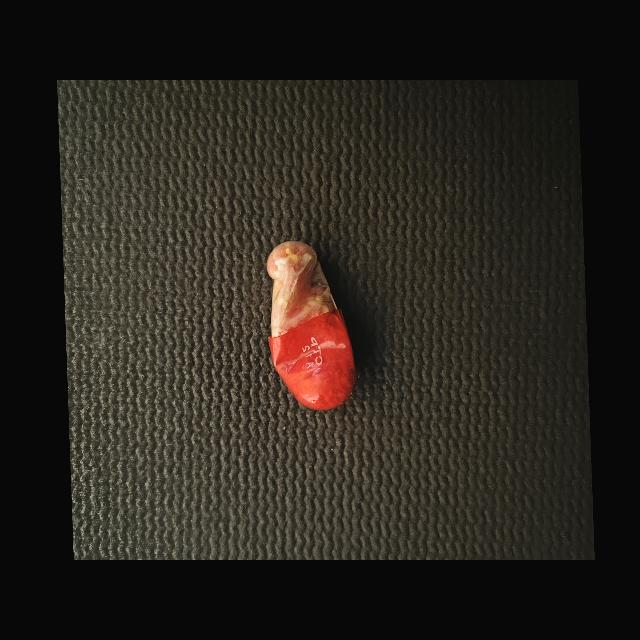Defective Capsule: (267, 241, 357, 410)
